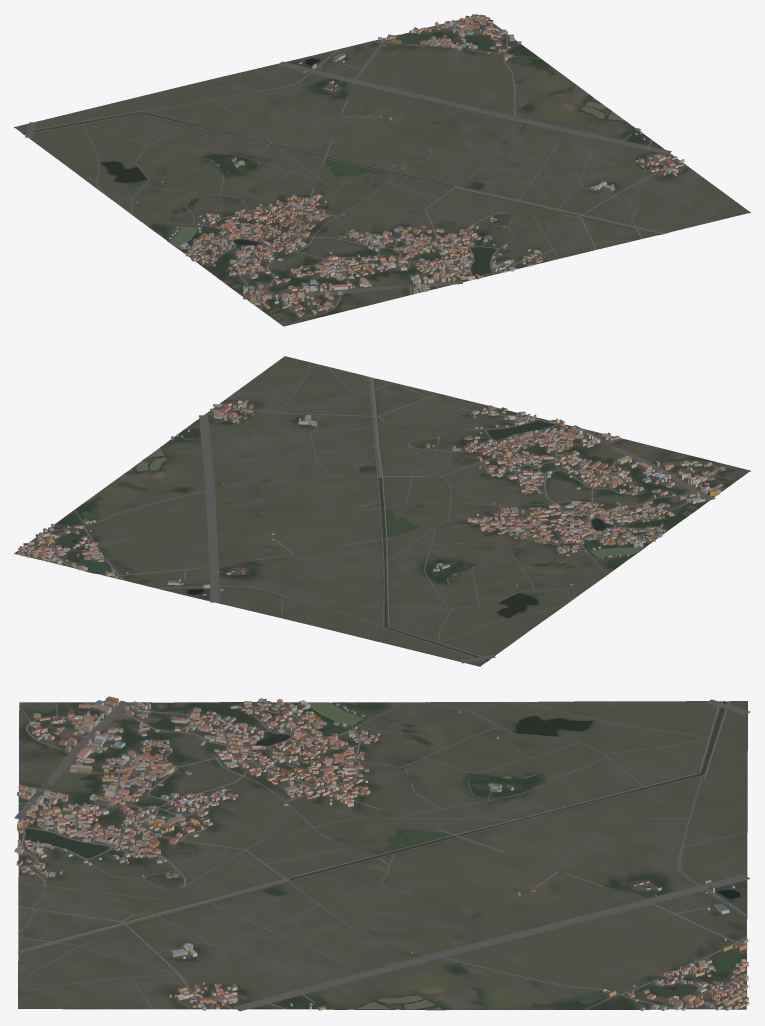
3 views of the same model, one above another, from view 1: azimuth 30°, elevation 25°; view 2: azimuth 150°, elevation 25°; view 3: azimuth 270°, elevation 25° (orthographic). The views are drawn at different scales.
Visible parts, largest first — view 1: ground, buildings, roads, water; view 2: ground, buildings, roads, water; view 3: ground, buildings, roads, water.
Boxes of the visible parts, x1,y1,x2,y2 form: ground: (14, 14, 750, 326); buildings: (136, 14, 684, 317); roads: (21, 20, 723, 324); water: (22, 32, 664, 275); ground: (14, 356, 750, 666); buildings: (18, 400, 725, 595); roads: (31, 363, 742, 663); water: (58, 377, 643, 660); ground: (18, 701, 747, 1010); buildings: (14, 696, 749, 1010); roads: (14, 699, 750, 1011); water: (18, 701, 746, 1009).
Size of the model in its own units: 1417 by 18.28 by 1418.
